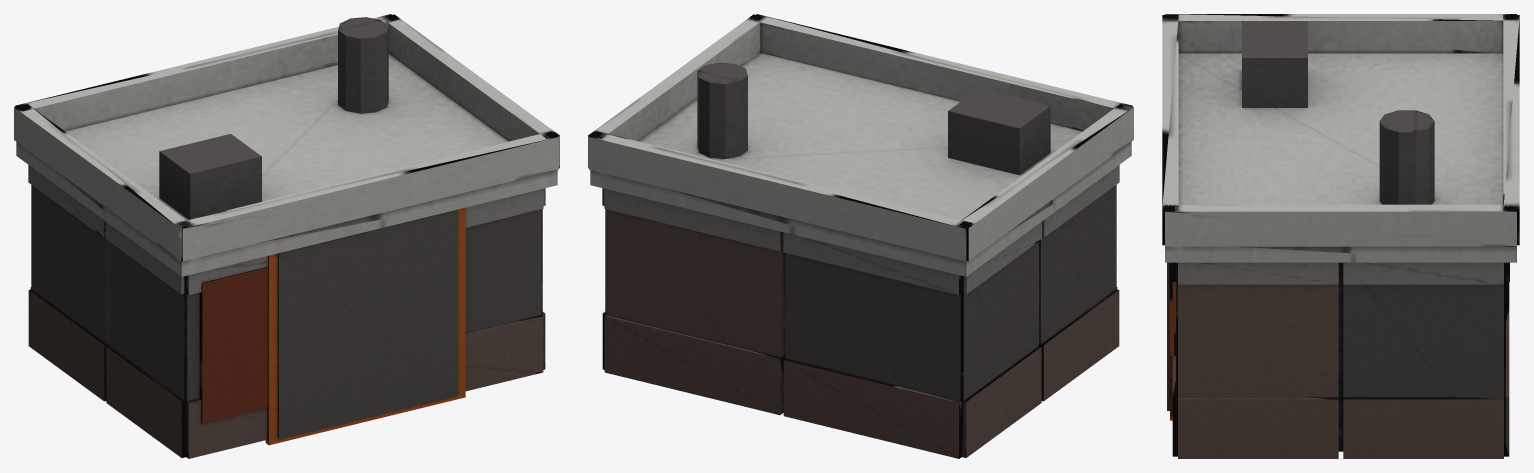
File: B_shed_a.glb
The picture shows the model from 3 angles, left to right: view 1: azimuth 30°, elevation 25°; view 2: azimuth 150°, elevation 25°; view 3: azimuth 270°, elevation 25°; orthographic projection. The views are drawn at different scales.
Parts seen in each view (by area): view 1: Cube; view 2: Cube; view 3: Cube.
Boxes of the visible parts, x1,y1,x2,y2 form: Cube: [14, 14, 559, 458]; Cube: [588, 14, 1133, 458]; Cube: [1162, 14, 1519, 458].
Size of the model in its own units: 8.5 by 6.1 by 6.5.
1 material, 1 textured.
